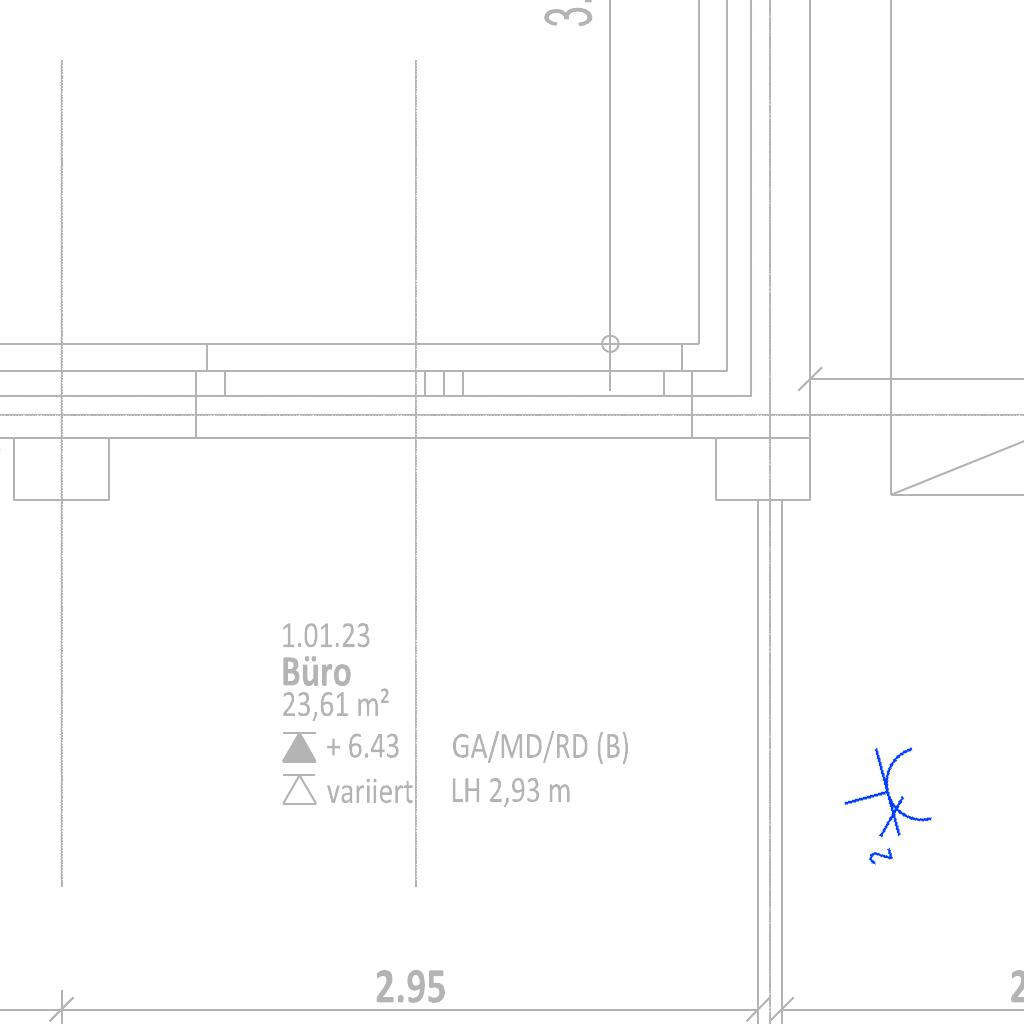Schukosteckdose_mehrfach: (830, 735, 948, 876)
